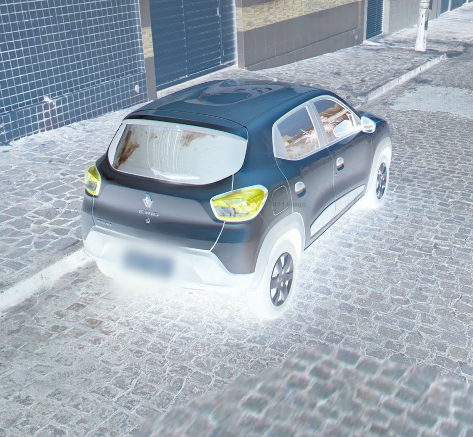car: (75, 67, 395, 317)
